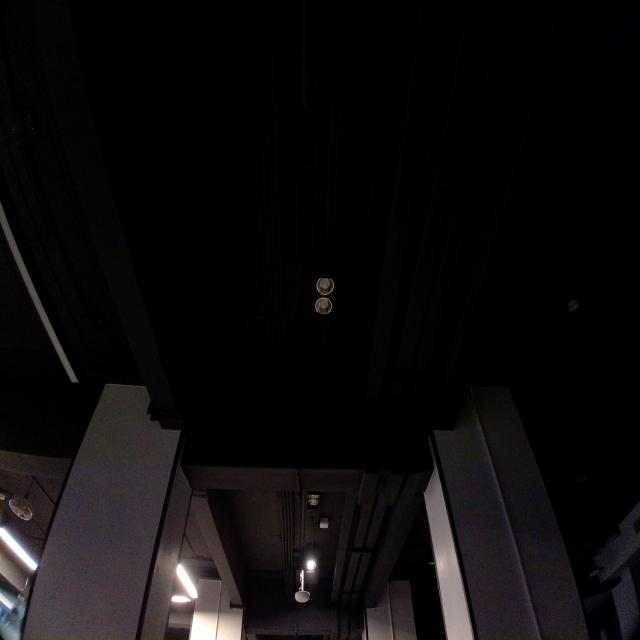lamp1_off: (305, 260, 343, 328)
